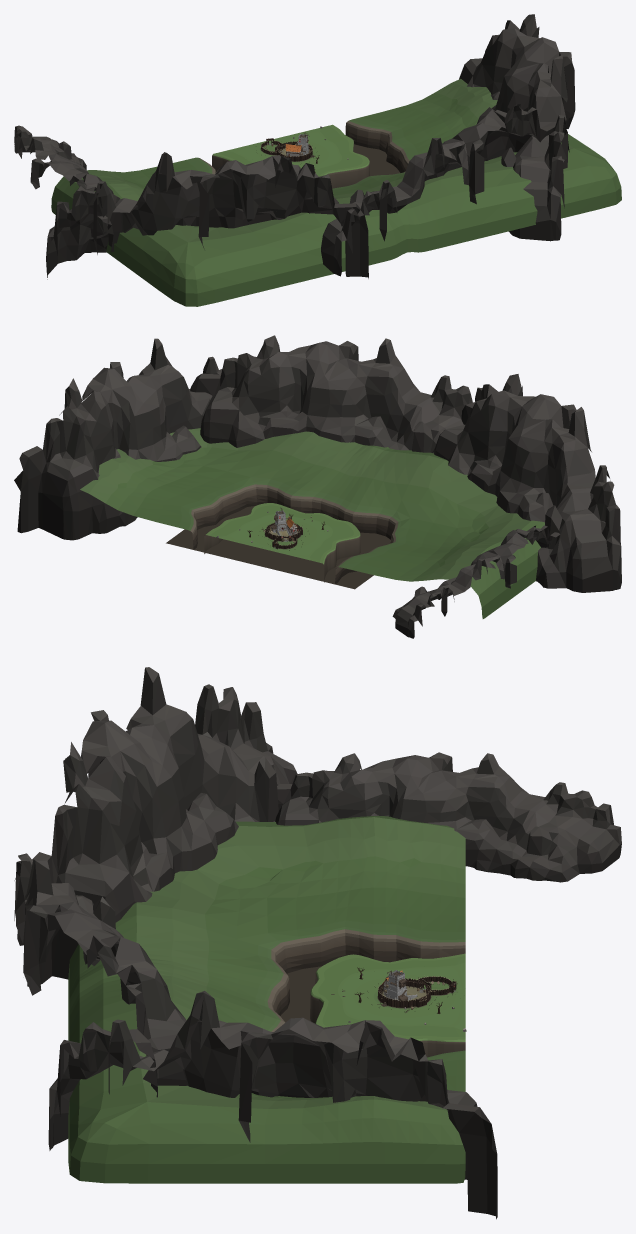
File: narrowForts.glb
The picture shows the model from 3 angles, top to bottom: view 1: azimuth 30°, elevation 25°; view 2: azimuth 150°, elevation 25°; view 3: azimuth 270°, elevation 25°; orthographic projection. The views are drawn at different scales.
Parts seen in each view (by area): view 1: Plane.134, mountains_.003, mountains_.001, mountains_.002, Cylinder, mountains_.004, Plane; view 2: Plane.134, mountains_.003, mountains_.002, mountains_.001, Cylinder, Plane, mountains_.004; view 3: Plane.134, mountains_.003, mountains_.001, mountains_.004, mountains_.002, Cylinder, Plane.
Boxes of the visible parts, x1,y1,x2,y2 form: Plane.134: (51, 79, 621, 306); mountains_.003: (46, 152, 368, 279); mountains_.001: (459, 14, 575, 241); mountains_.002: (321, 104, 561, 276); Cylinder: (212, 124, 369, 188); mountains_.004: (14, 125, 119, 252); Plane: (354, 144, 399, 176); Plane.134: (80, 428, 544, 618); mountains_.003: (434, 374, 621, 592); mountains_.002: (190, 335, 472, 453); mountains_.001: (14, 338, 222, 540); Cylinder: (204, 503, 360, 582); Plane: (166, 506, 390, 589); mountains_.004: (392, 525, 560, 638); Plane.134: (68, 815, 465, 1183); mountains_.003: (25, 667, 297, 986); mountains_.001: (48, 991, 497, 1219); mountains_.004: (275, 752, 621, 882); mountains_.002: (14, 853, 187, 1097); Cylinder: (310, 953, 465, 1057); Plane: (280, 966, 321, 1022).
Size of what is drawn, in the model's own units: 551 by 148 by 363.
